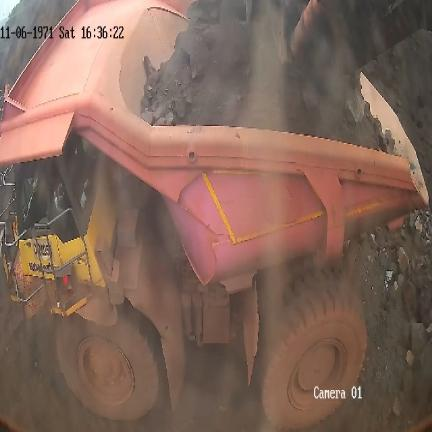pile: (140, 1, 390, 152), (345, 204, 432, 432)
